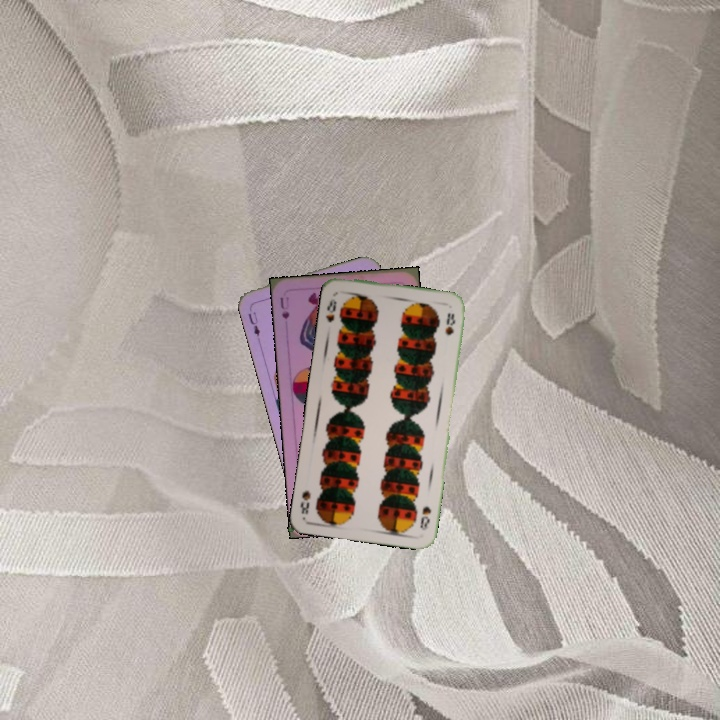EU: (244, 308, 262, 339)
S8: (416, 502, 433, 533), (322, 295, 339, 325)
SU: (276, 293, 292, 322)
